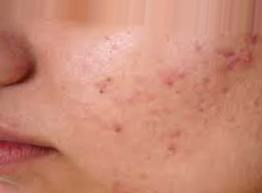Acne: (66, 37, 255, 108)
